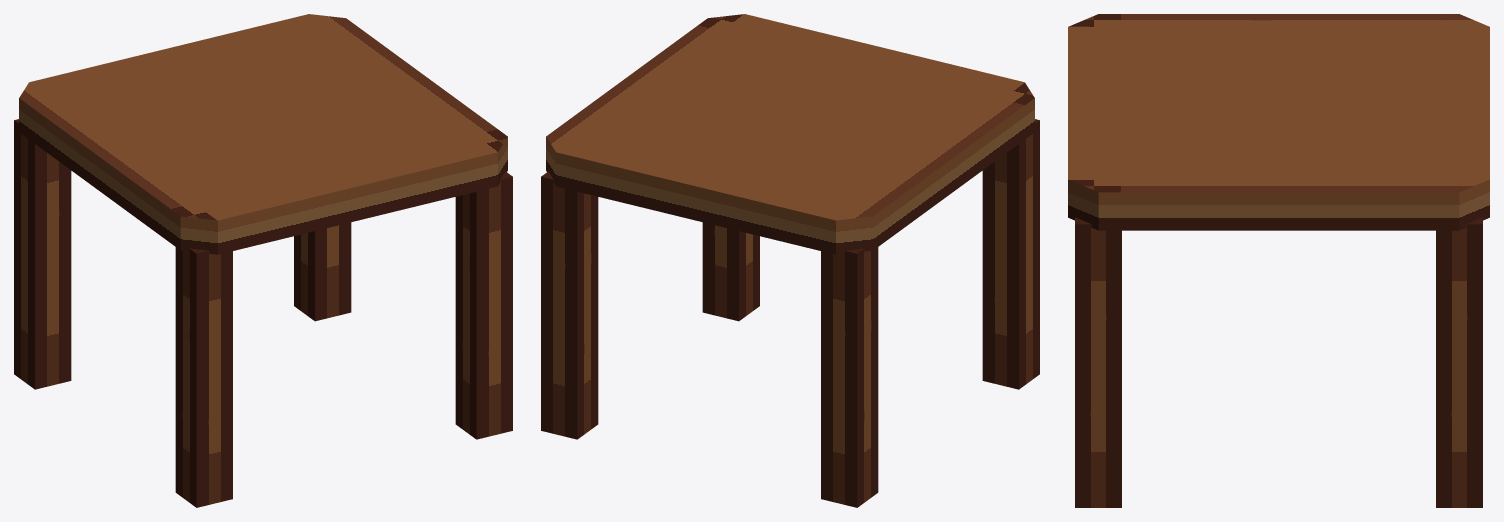
The model's file is wood_table_single_4legs.glb.
The picture shows the model from 3 angles, left to right: view 1: azimuth 30°, elevation 25°; view 2: azimuth 150°, elevation 25°; view 3: azimuth 270°, elevation 25°; orthographic projection. The views are drawn at different scales.
Parts seen in each view (by area): view 1: wood_table_single_4legs; view 2: wood_table_single_4legs; view 3: wood_table_single_4legs.
Part boxes in pixels (x1,y1,x2,y2): wood_table_single_4legs: (14,14,512,507); wood_table_single_4legs: (541,14,1039,507); wood_table_single_4legs: (1068,14,1489,507).
Bounding box in the file's own units: 0.9 × 0.75 × 0.9.
Materials: 1 (1 with a texture image).
